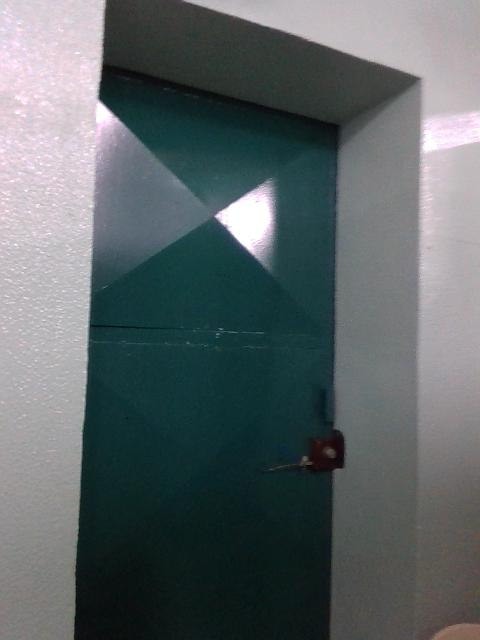door: (73, 73, 346, 640)
